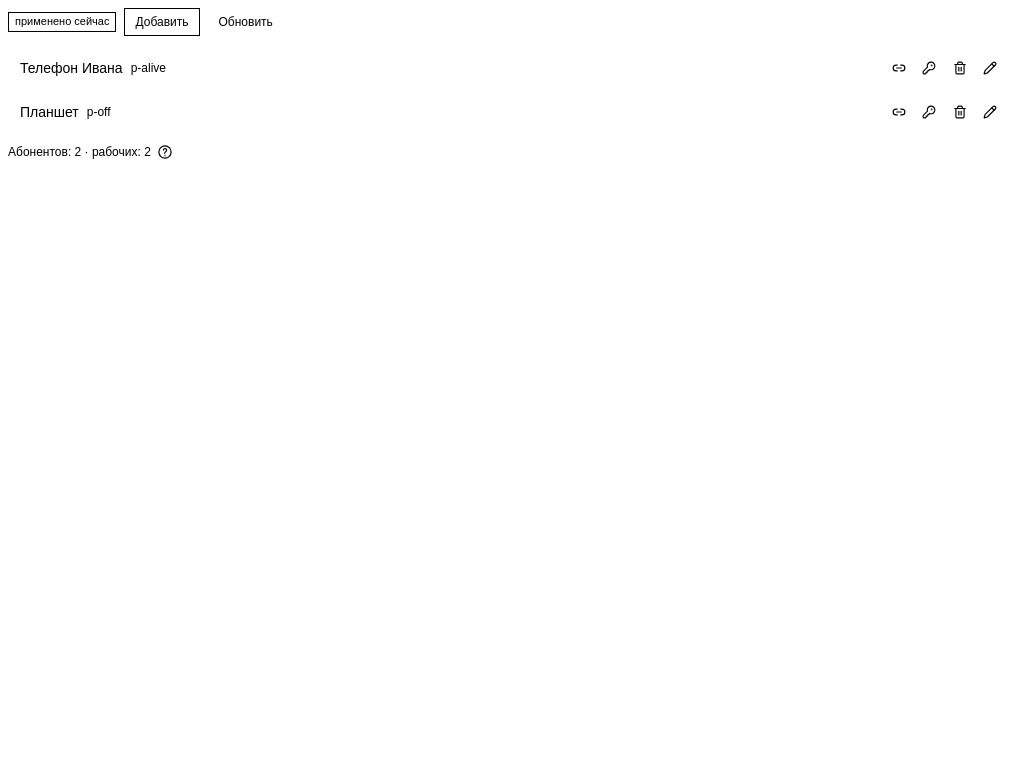
Test: бейдж шапки › после мутации показывает судьбу её reload
Expected: the text "применено сейчас" is shown, [8, 12, 116, 32]
Click the button named "Удалить" in the row of "Планшет" at (960, 112), box [946, 98, 974, 126]
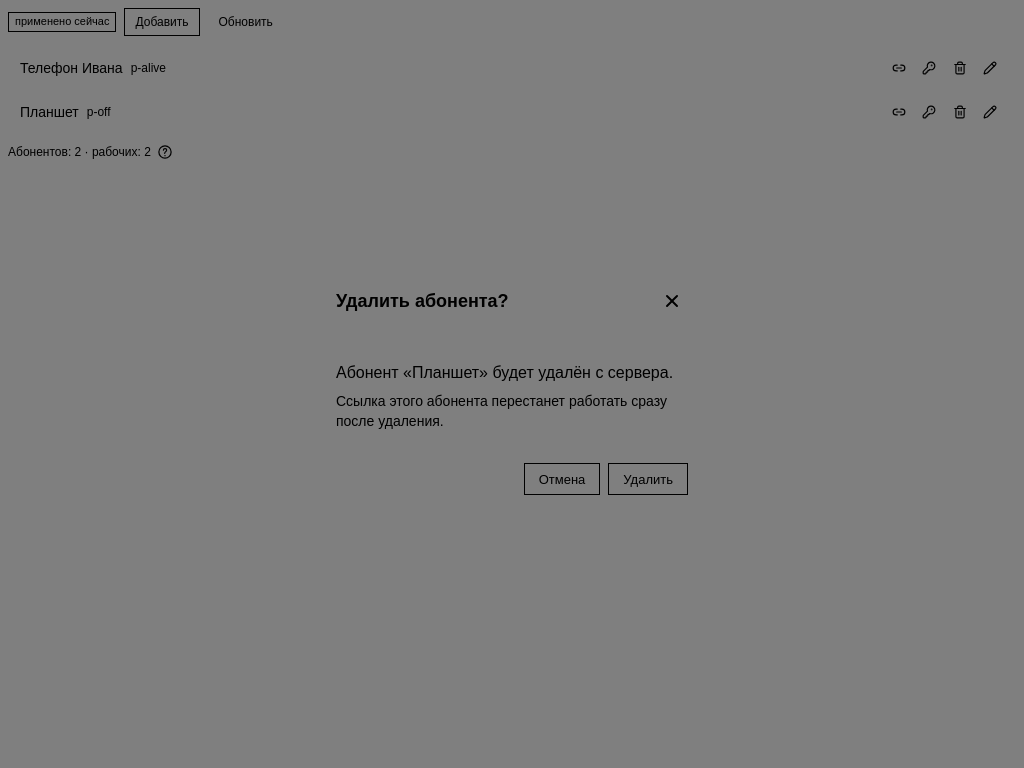
Expected: the heading "Удалить абонента?" is shown, [336, 291, 509, 312]
Click the button "Удалить" at (648, 479), box [608, 463, 688, 495]
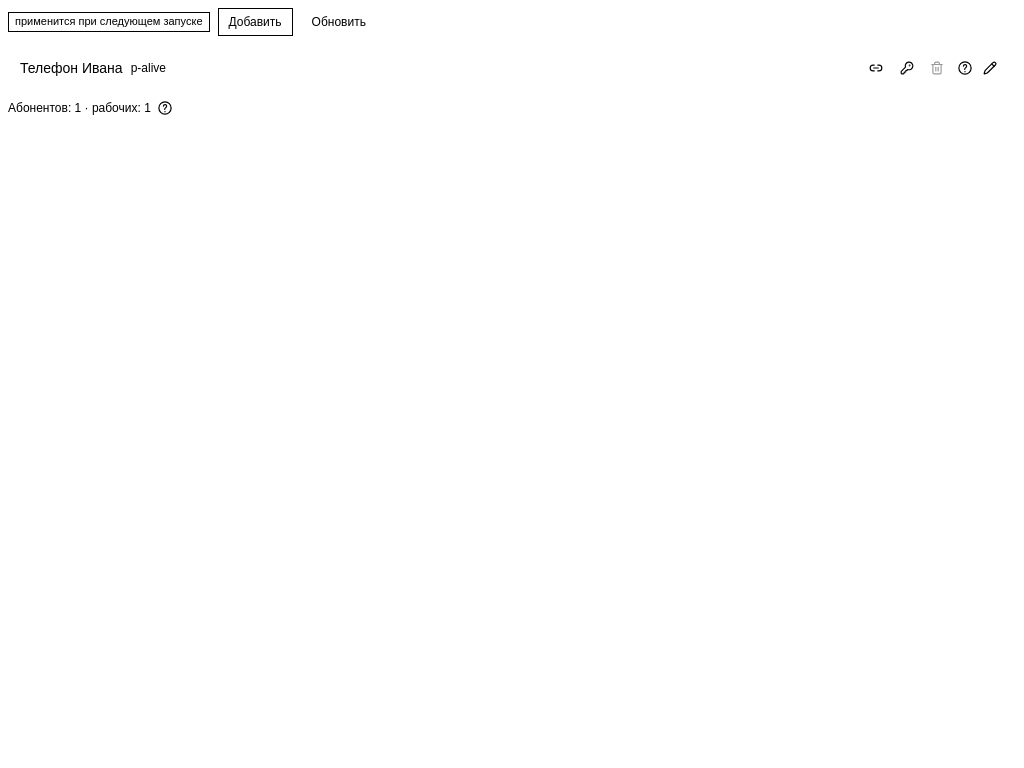
Expected: the text "применится при следующем запуске" is shown, [8, 12, 210, 32]
